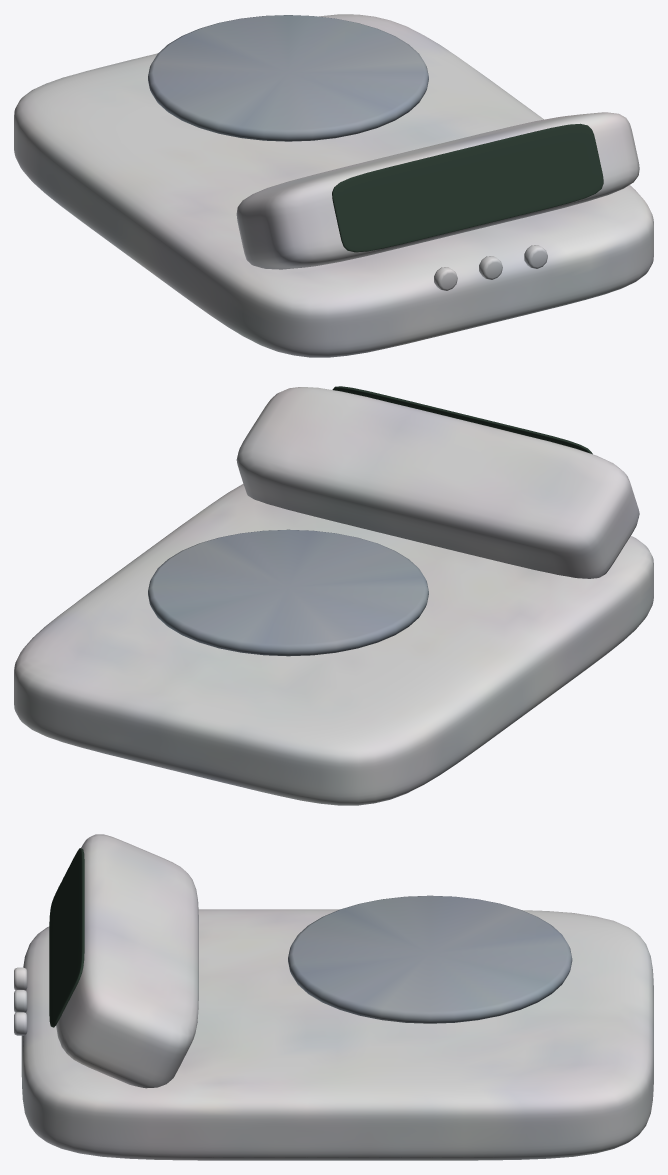
File: digital-balance.glb
3 views of the same model, one above another, from view 1: azimuth 30°, elevation 25°; view 2: azimuth 150°, elevation 25°; view 3: azimuth 270°, elevation 25° (orthographic).
Parts seen in each view (by area): view 1: digital-balance-body, digital-balance-pan, digital-balance-display; view 2: digital-balance-body, digital-balance-pan, digital-balance-display; view 3: digital-balance-body, digital-balance-pan, digital-balance-display.
Part boxes in pixels (x1,y1,x2,y2): digital-balance-body: (14,14,653,357); digital-balance-pan: (148,15,428,141); digital-balance-display: (332,123,603,252); digital-balance-body: (14,387,653,805); digital-balance-pan: (148,529,428,656); digital-balance-display: (332,386,592,454); digital-balance-body: (14,834,653,1160); digital-balance-pan: (288,895,572,1023); digital-balance-display: (49,848,84,1027).
Size of what is drawn, in the model's own units: 18 by 7.04 by 24.3.
